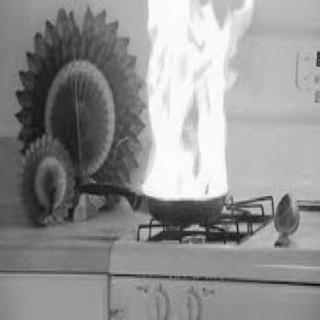Fire: (132, 1, 255, 197)
